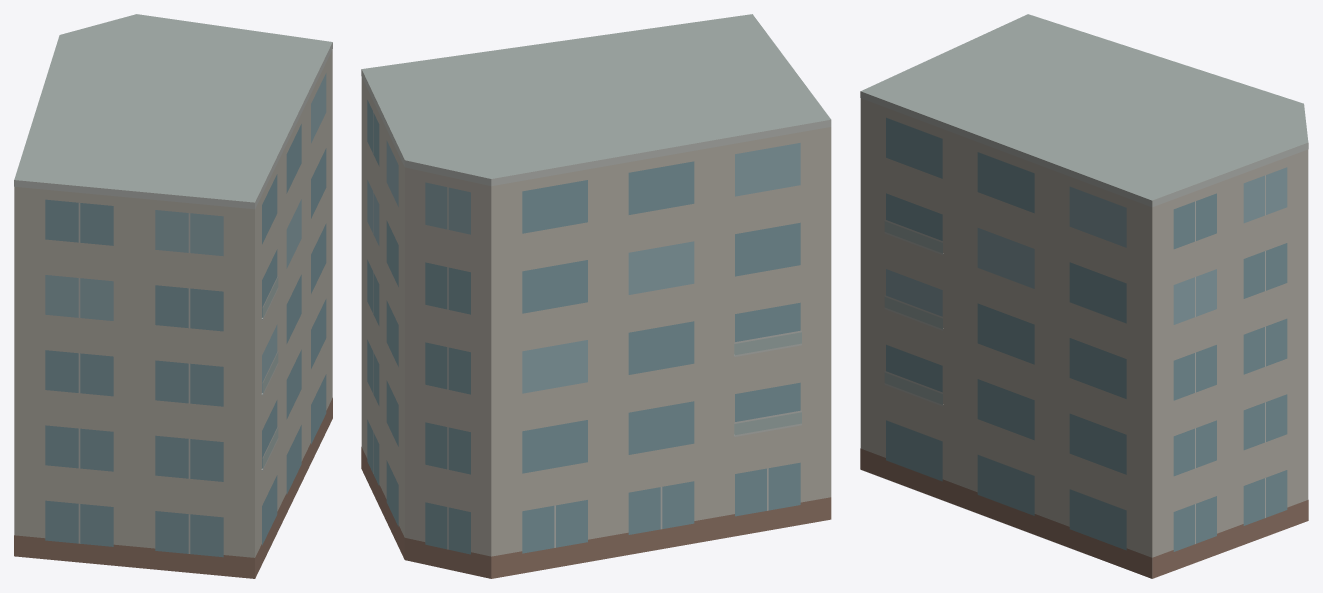
The model's file is survey-upis-32722751.glb.
3 renders of one model, left to right at view 1: azimuth 30°, elevation 25°; view 2: azimuth 150°, elevation 25°; view 3: azimuth 270°, elevation 25°, orthographic. The views are drawn at different scales.
Visible parts, largest first — view 1: survey-upis-32722751.tmp; view 2: survey-upis-32722751.tmp; view 3: survey-upis-32722751.tmp.
Part boxes in pixels (left/top/right/bottom): survey-upis-32722751.tmp: left=14, top=14, right=332, bottom=578; survey-upis-32722751.tmp: left=361, top=14, right=831, bottom=578; survey-upis-32722751.tmp: left=860, top=14, right=1308, bottom=578.
Bounding box in the file's own units: 14.39 × 13.6 × 14.6.
